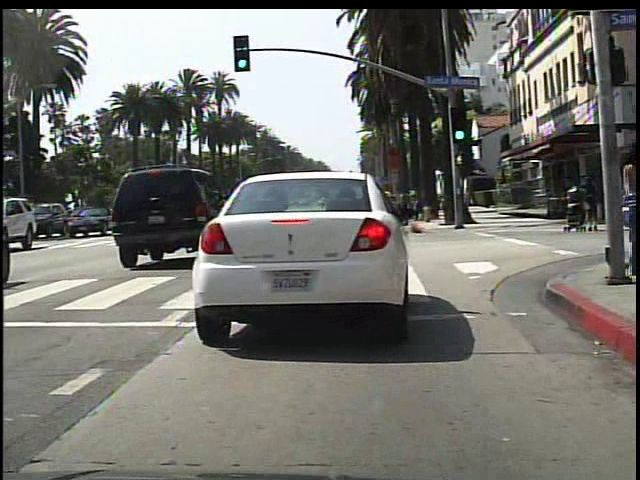person: (565, 160, 601, 238), (620, 141, 638, 280)
